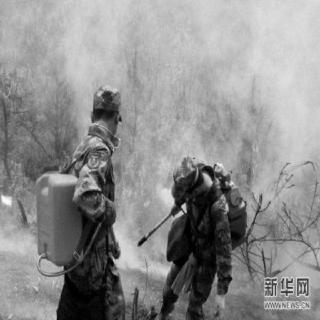other: (215, 160, 251, 254)
